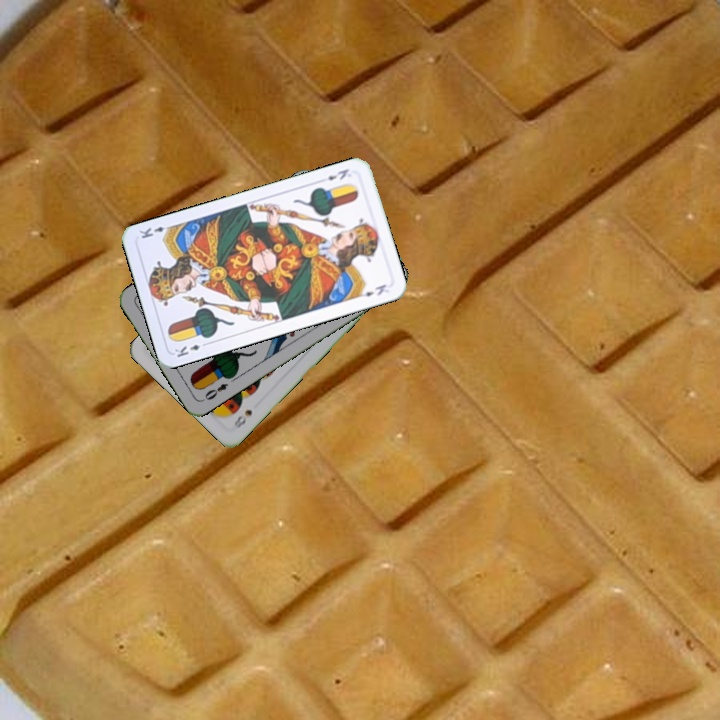EK: (170, 338, 211, 360), (323, 164, 351, 183)
EO: (198, 379, 231, 404)
S8: (230, 405, 255, 431)
